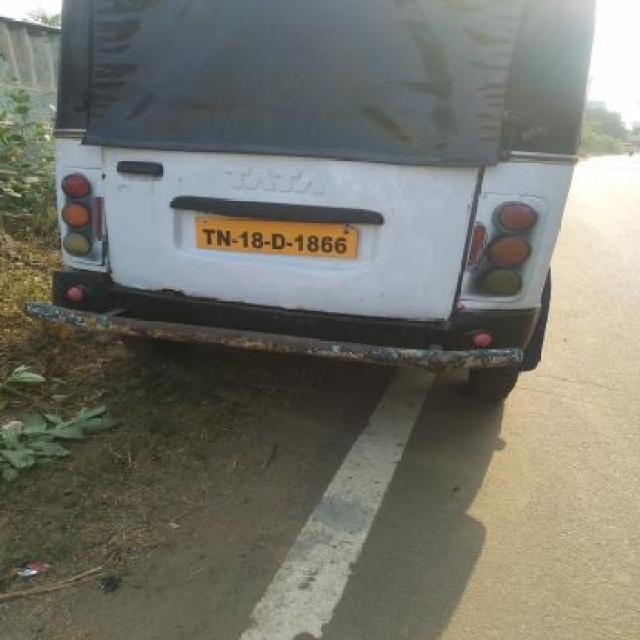Number_Plate_Detected: (190, 215, 360, 263)
